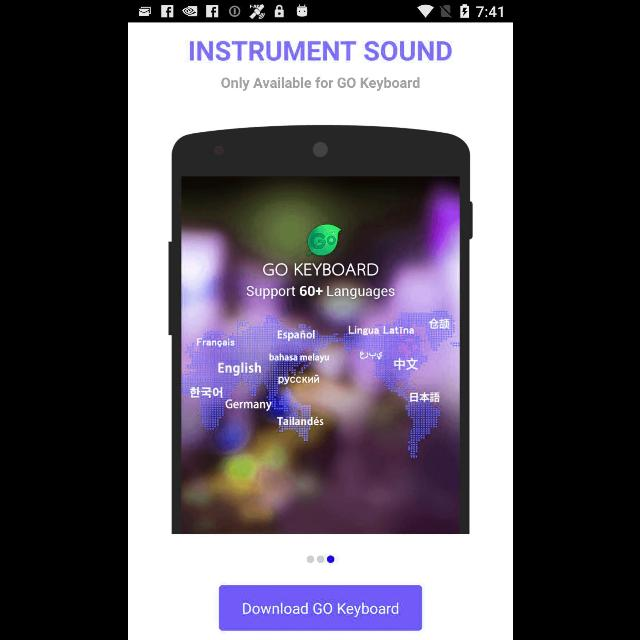image: (168, 124, 472, 534)
pageindicator: (306, 555, 334, 563)
text: (189, 41, 451, 61), (221, 77, 419, 91)
textbutton: (218, 585, 422, 631)
uppertaskbar: (128, 1, 512, 23)
